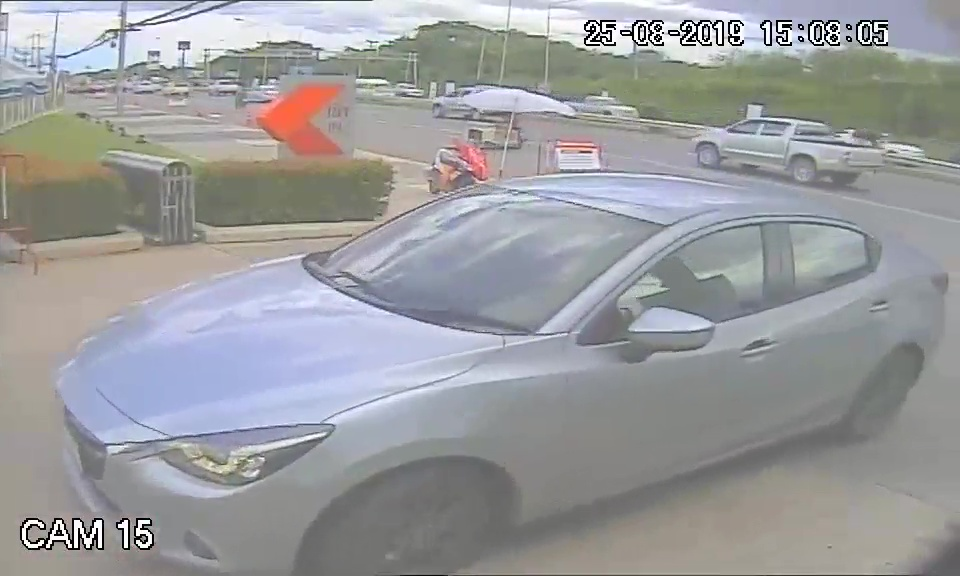sedan: (38, 181, 769, 560)
